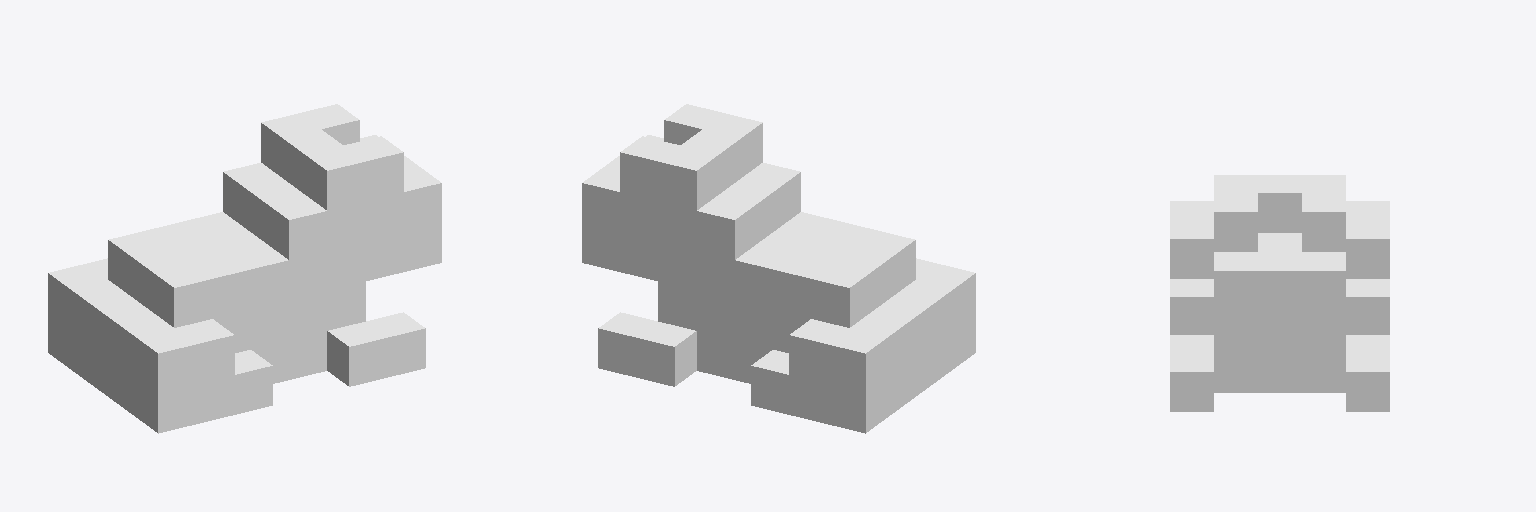
File: frog.obj
3 views of the same model, side by side, from view 1: azimuth 30°, elevation 25°; view 2: azimuth 150°, elevation 25°; view 3: azimuth 270°, elevation 25° (orthographic).
Size of the model in its own units: 8 by 5 by 5.